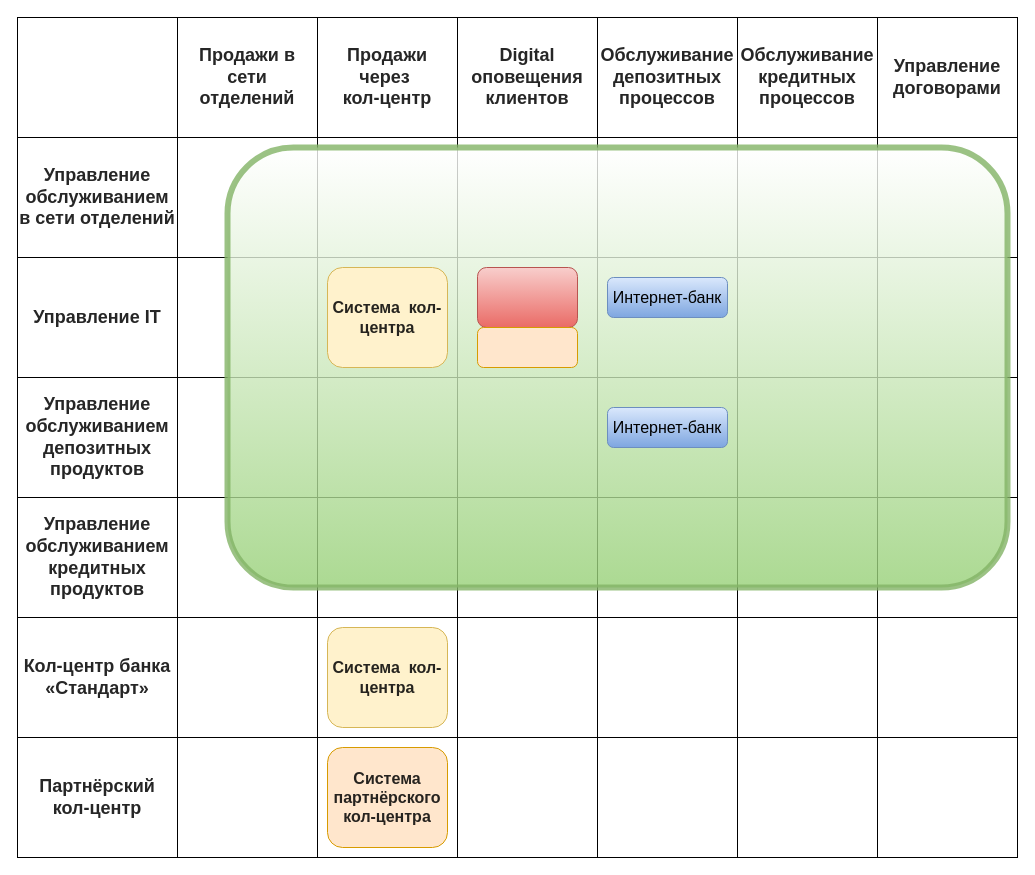
The diagram is 1035 pixels wide and 875 high, and some of its shapes have lost their labels. Each missing label, with the centre of its shape:
"АБС" goes at point (617, 367).
"СМС-шлюз телеком-оператора" goes at point (527, 297).
"Телеком оператор" goes at point (527, 347).
